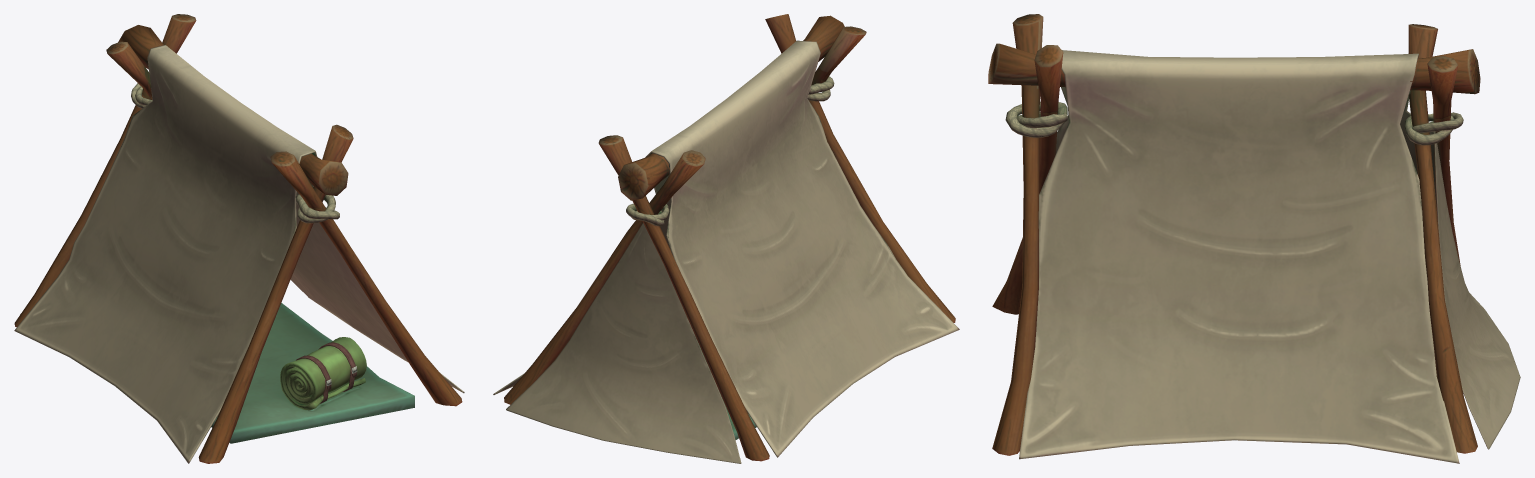
Rendered from Tent.gltf.
3 views of the same model, side by side, from view 1: azimuth 30°, elevation 25°; view 2: azimuth 150°, elevation 25°; view 3: azimuth 270°, elevation 25° (orthographic). The views are drawn at different scales.
Visible parts, largest first — view 1: tent; view 2: tent; view 3: tent.
Part boxes in pixels (left/top/right/bottom): tent: left=14, top=14, right=464, bottom=463; tent: left=493, top=14, right=959, bottom=463; tent: left=988, top=14, right=1520, bottom=463.
Size of the model in its own units: 184 by 179 by 248.
1 material, 1 textured.
